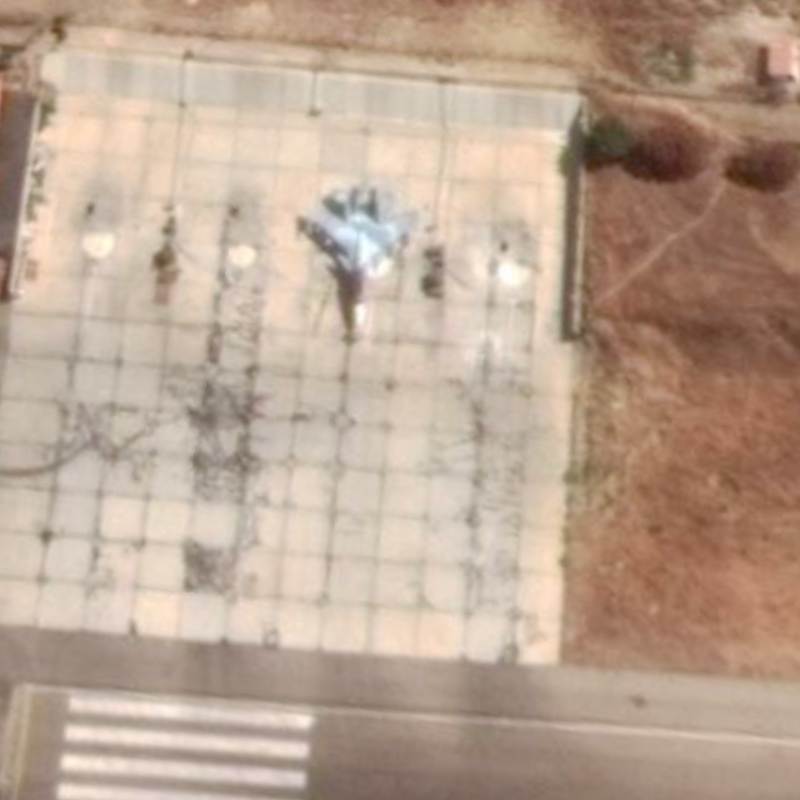A19: (302, 174, 423, 338)
